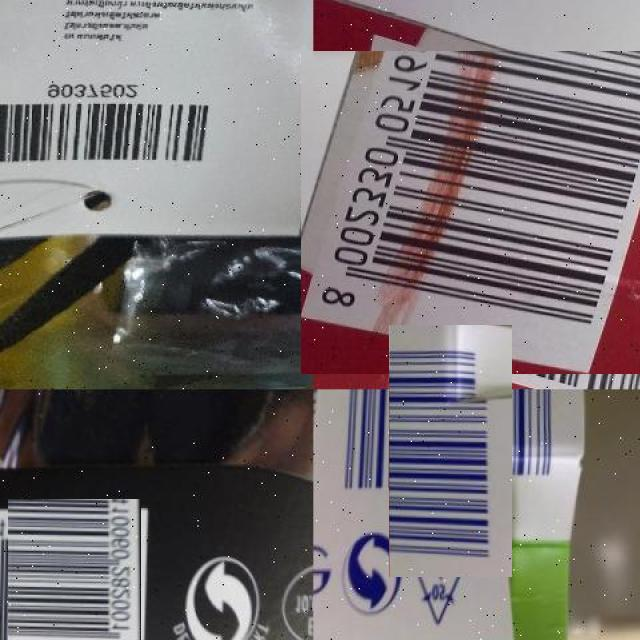Barcode: (308, 42, 640, 381), (356, 357, 545, 544), (0, 80, 224, 172), (3, 502, 144, 640)
